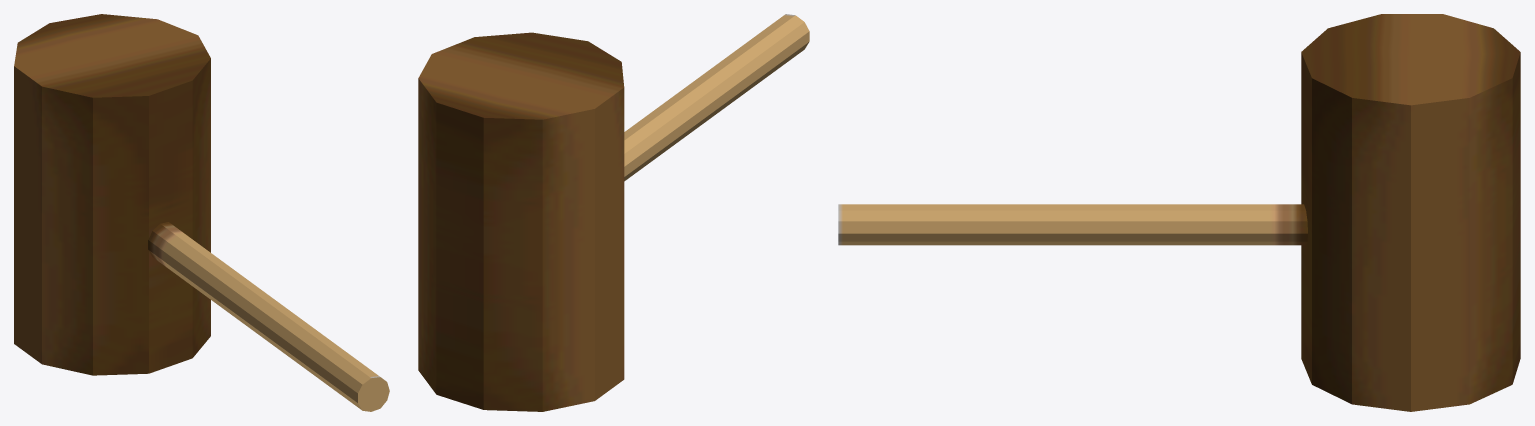
File: Mallet.glb
3 renders of one model, left to right at view 1: azimuth 30°, elevation 25°; view 2: azimuth 150°, elevation 25°; view 3: azimuth 270°, elevation 25°, orthographic. The views are drawn at different scales.
Visible parts, largest first — view 1: Mallet; view 2: Mallet; view 3: Mallet.
Boxes of the visible parts, <box> form: Mallet: <box>14,14,389,411</box>; Mallet: <box>418,14,809,411</box>; Mallet: <box>838,14,1520,411</box>.
Size of the model in its own units: 144 by 225 by 455.
Materials: 1 (1 with a texture image).
